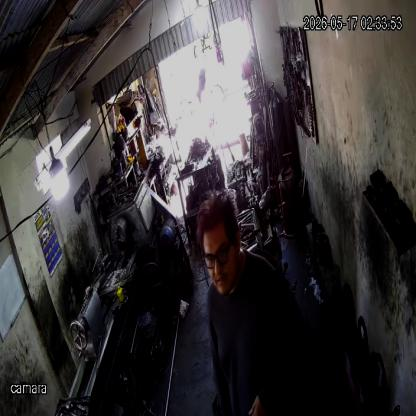lentes: (200, 242, 234, 276)
